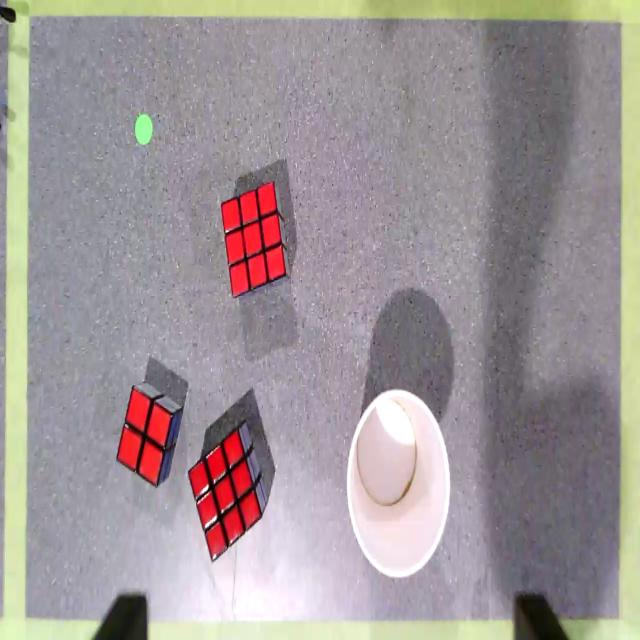cube2-red: (117, 386, 171, 485)
cube3-red: (188, 430, 262, 560), (221, 184, 286, 299)
